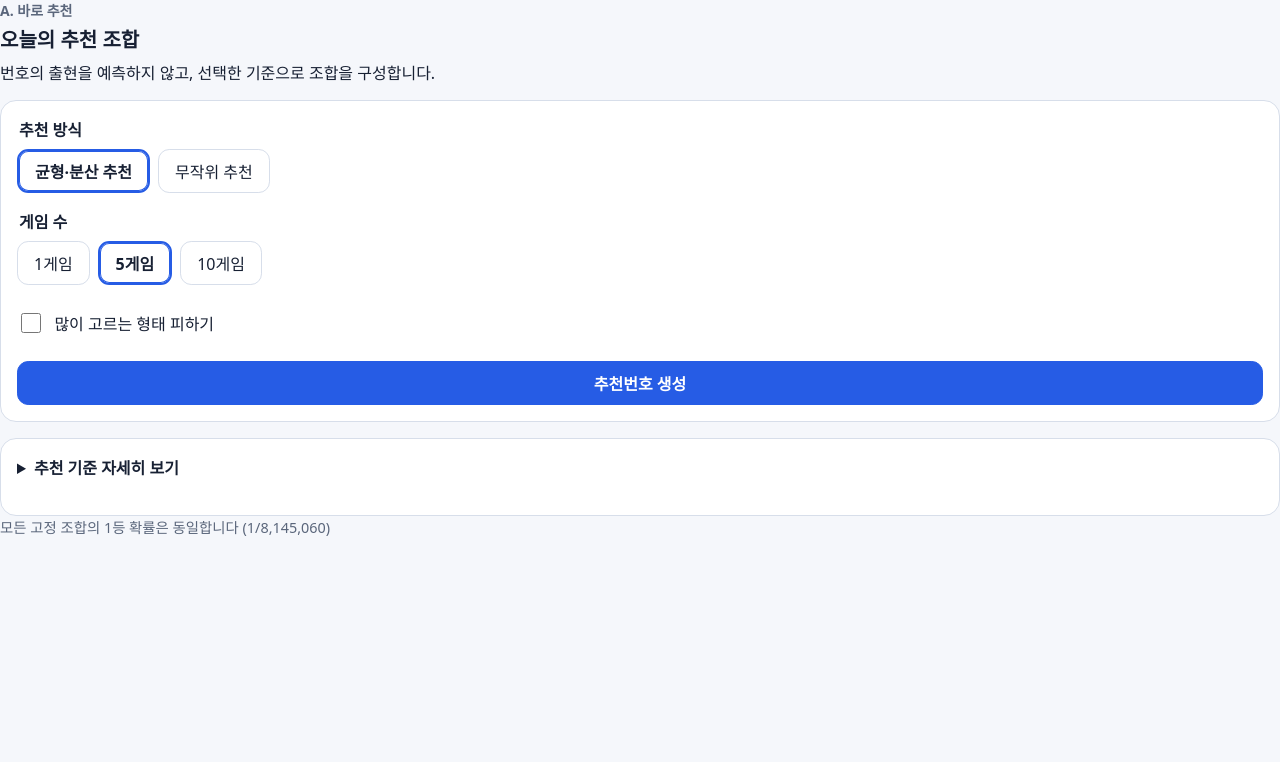
Scenario: surfaces result copy failure without result or saved-data mutation
Click the button "추천번호 생성": [640, 383] box x1=17 y1=361 x2=1263 y2=405
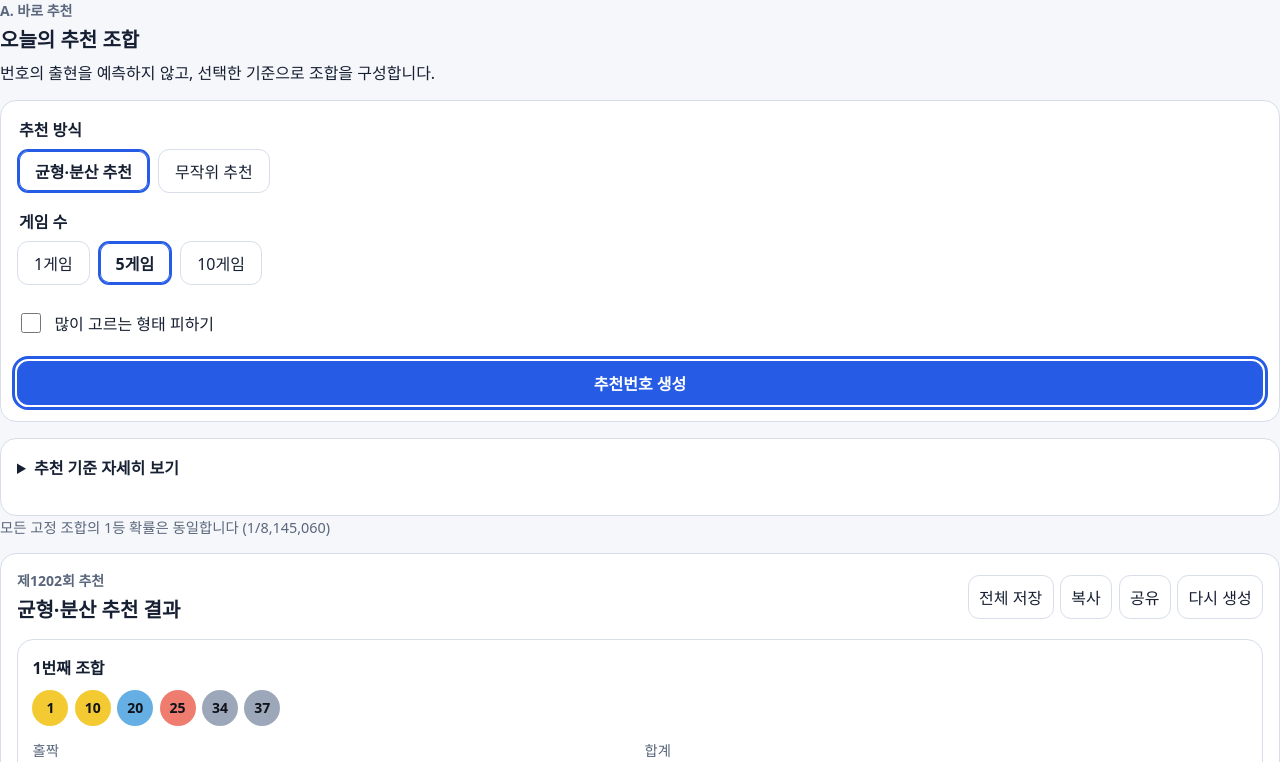
Click the button "복사": [1086, 597] box x1=1060 y1=575 x2=1112 y2=619
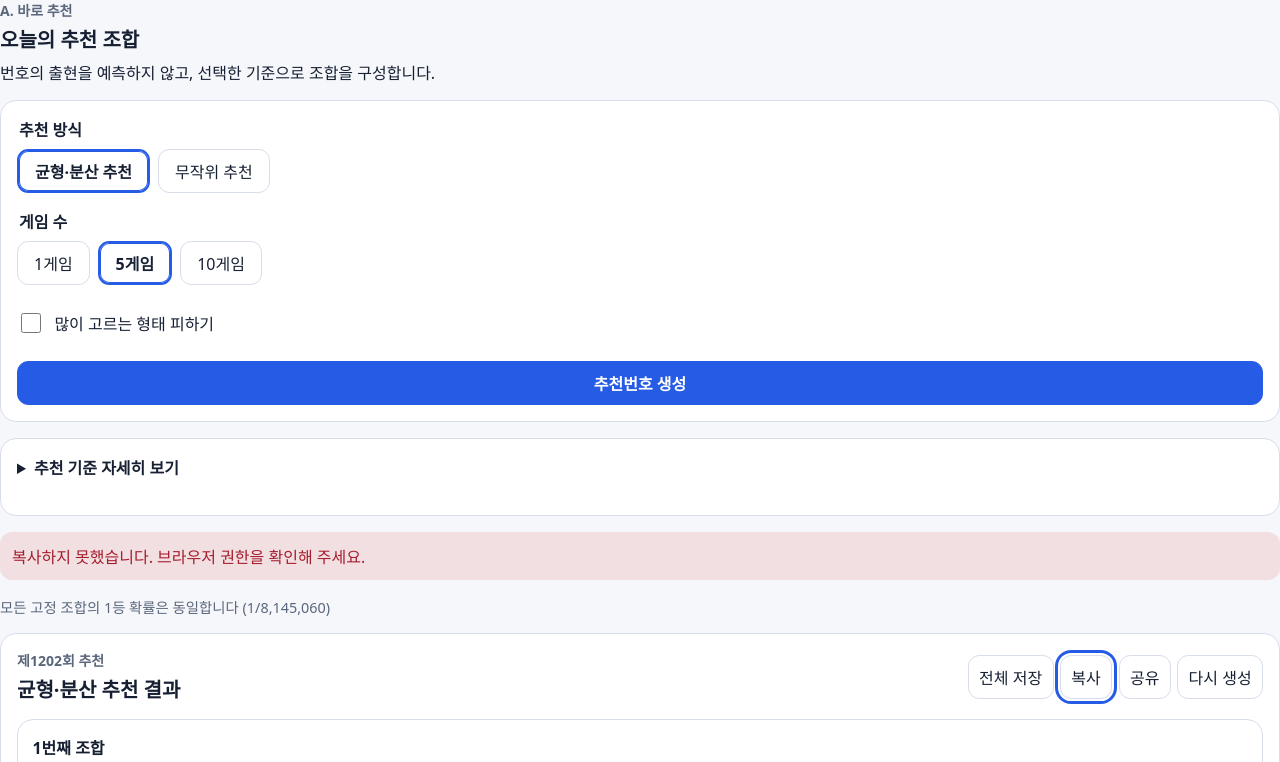
Expected: the message shows "복사하지 못했습니다.", x1=12 y1=546 x2=365 y2=568
